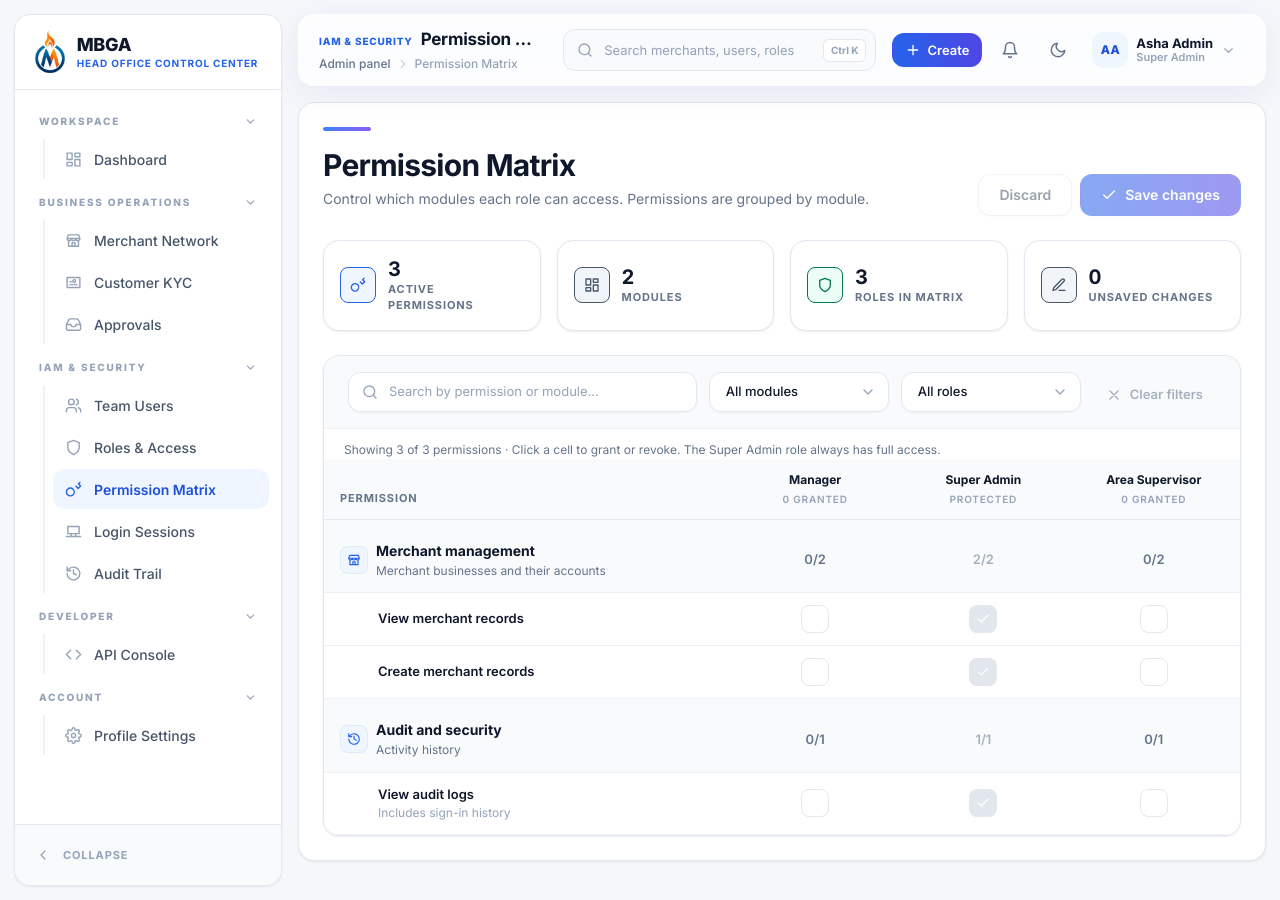
Test case: Permissions page › filters by search text
Expected: the heading "Merchant management" is shown, [376,542,535,558]
Type "zzz" into the search field named "Search permissions" at (522, 392), box [348,372,697,412]
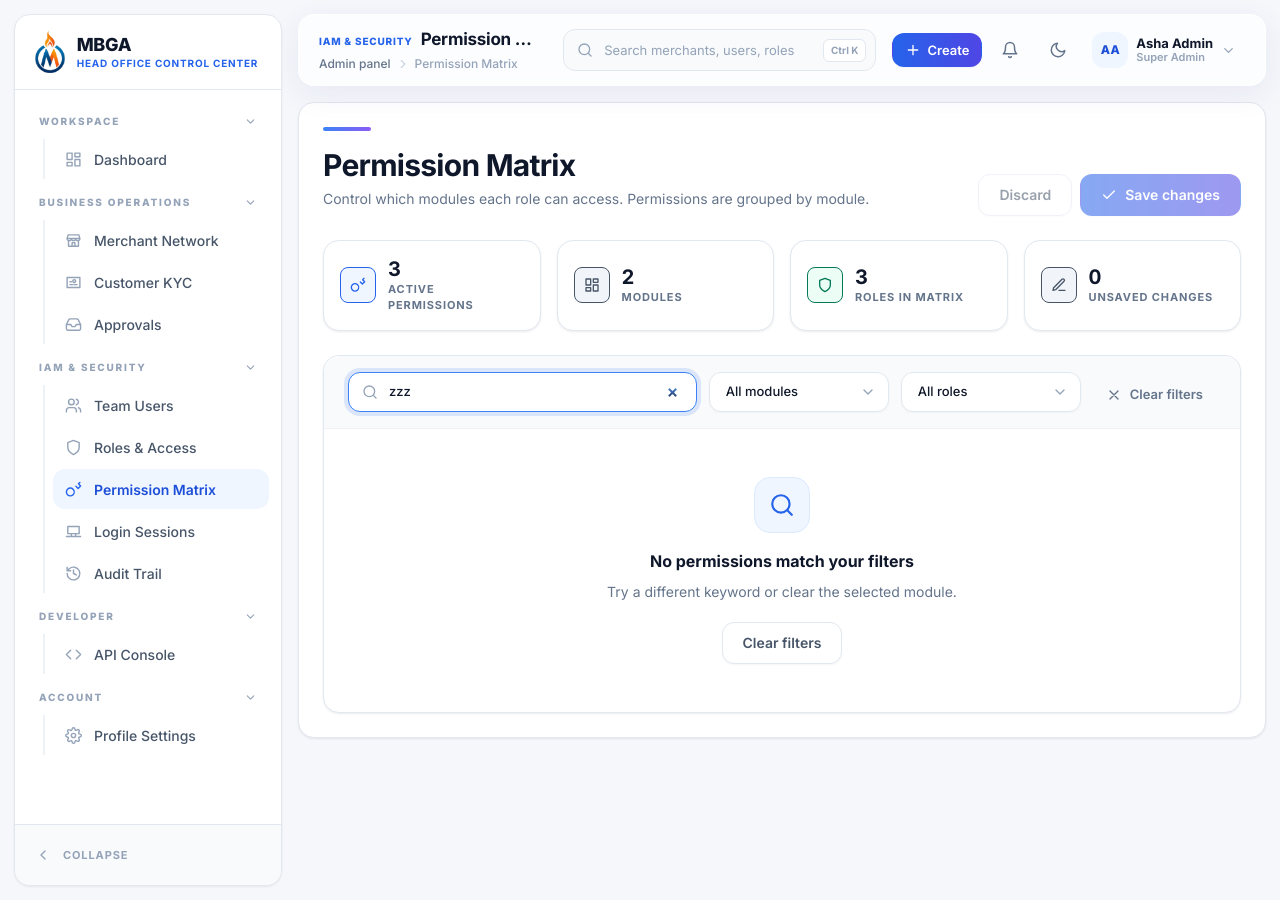
Result: the heading "No permissions match your filters" is shown at [650,548,914,572]
